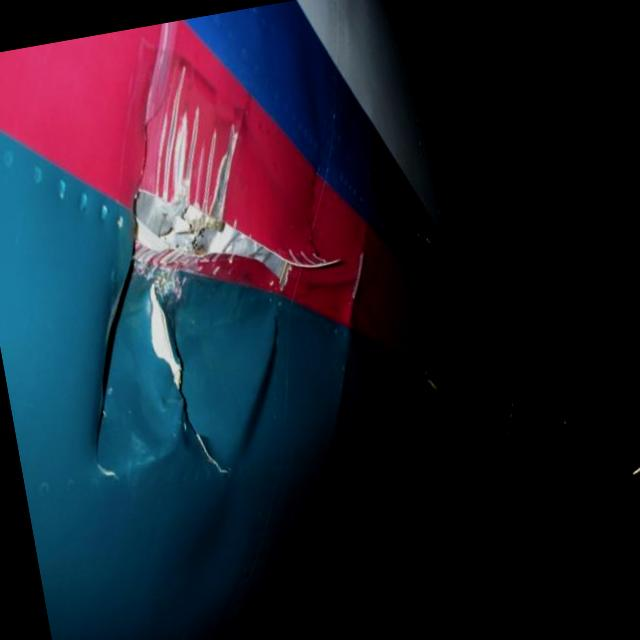crack: (150, 312, 222, 484)
dent: (198, 305, 301, 469)
